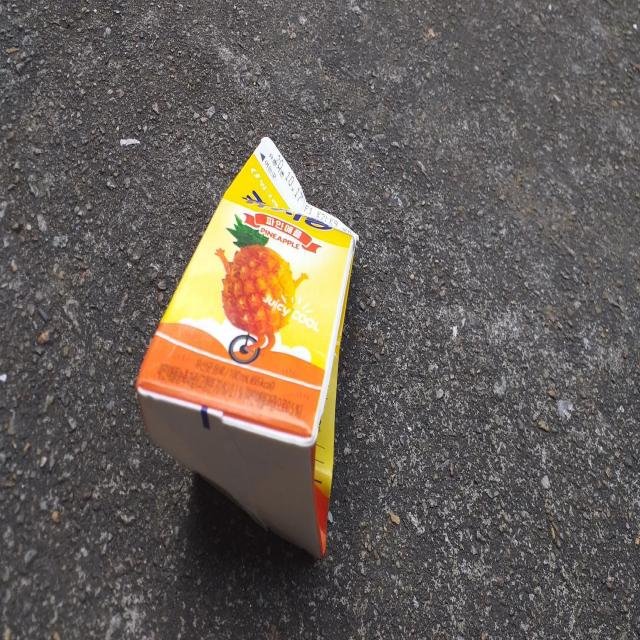paperpack: (136, 136, 358, 558)
